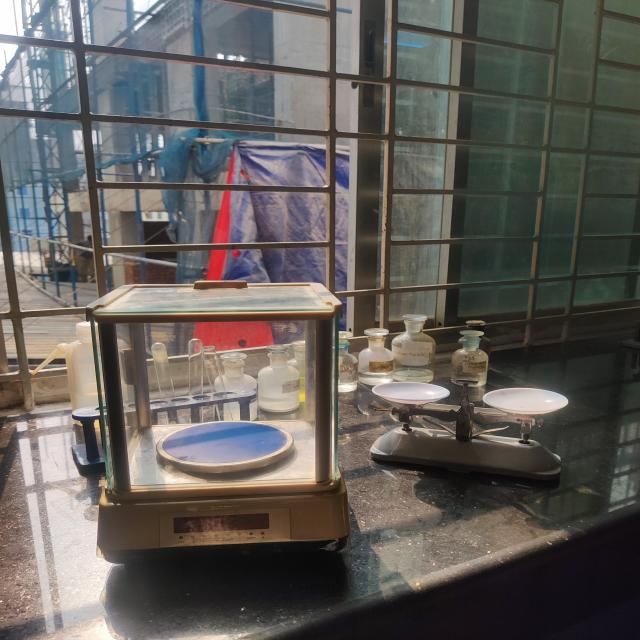Mechanical_Balance_Scale: (361, 354, 592, 497)
Precision_Weight_Scale: (49, 252, 369, 586)
